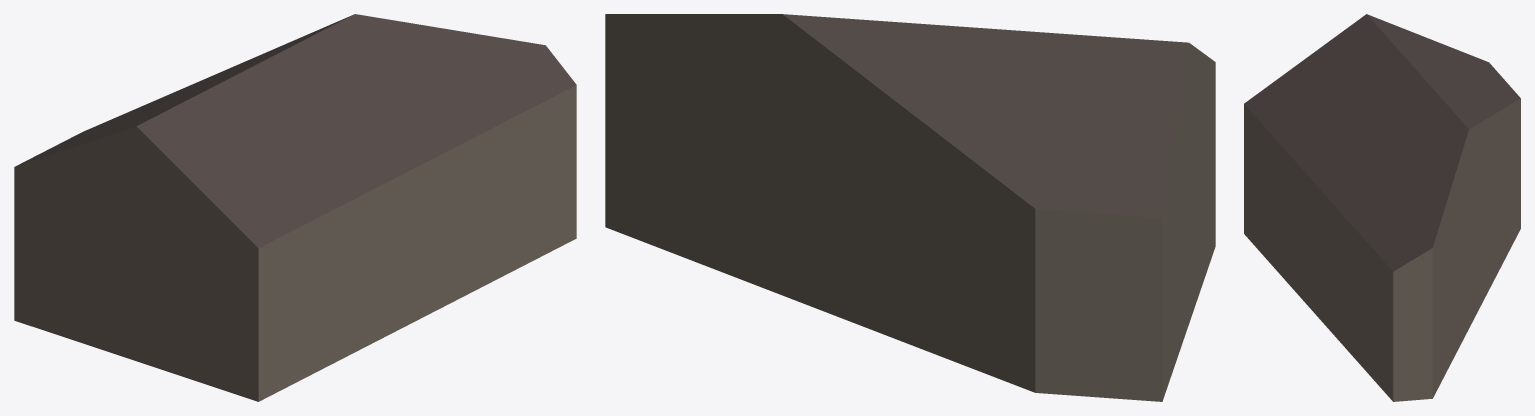
The picture shows the model from 3 angles, left to right: view 1: azimuth 30°, elevation 25°; view 2: azimuth 150°, elevation 25°; view 3: azimuth 270°, elevation 25°; orthographic projection. The views are drawn at different scales.
Parts seen in each view (by area): view 1: HP-w859082486; view 2: HP-w859082486; view 3: HP-w859082486.
Boxes of the visible parts, <box> form: HP-w859082486: <box>14,14,576,401</box>; HP-w859082486: <box>605,14,1215,401</box>; HP-w859082486: <box>1244,14,1520,401</box>.
Bounding box in the file's own units: 20.7 × 9.18 × 11.56.
